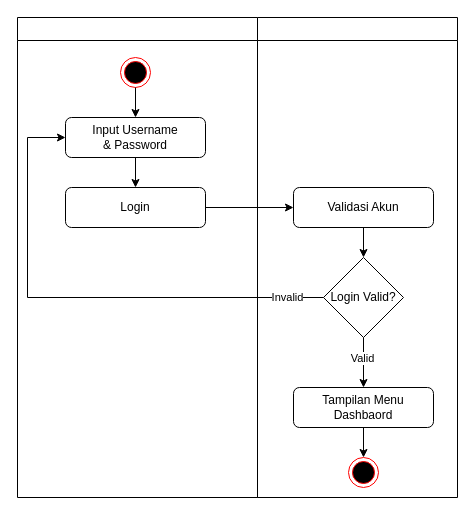
Some shapes in this 475 by 515 pixel diagram are drawn without their labels. Here are the shapes that lost their labels. From the top down, the box of each, then its label:
(16, 16, 258, 498): User/Calon Pendaftar
(256, 16, 458, 498): Website
